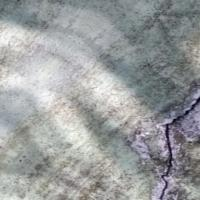crack: (146, 90, 199, 199)
